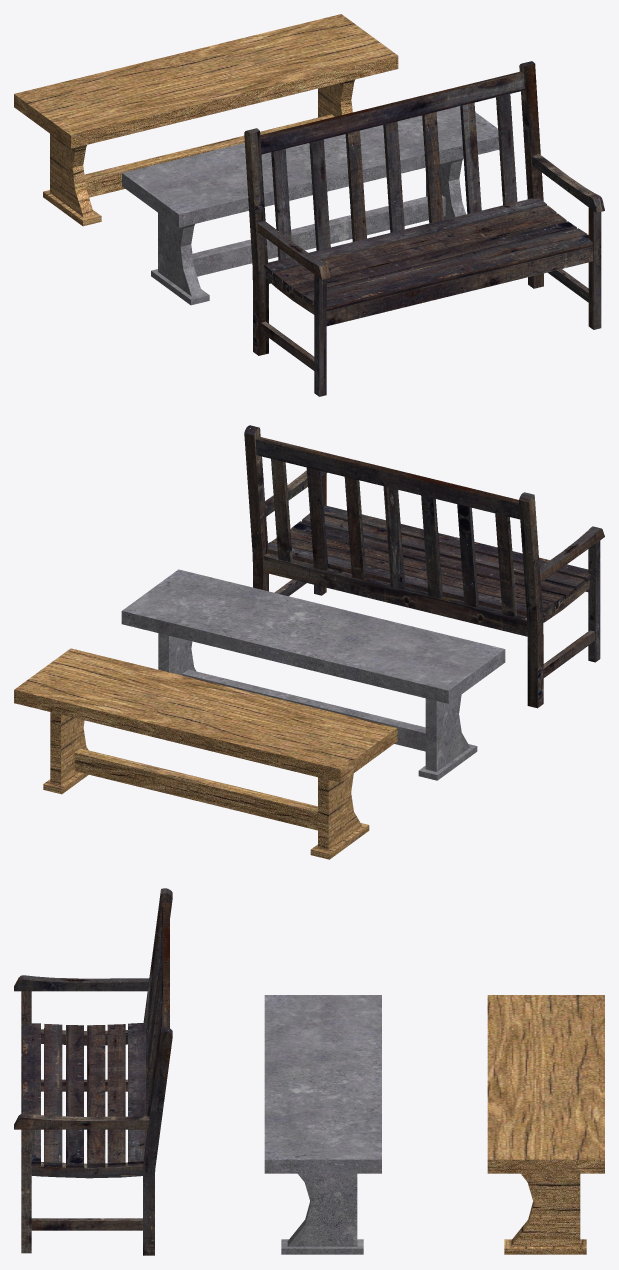
The model's file is medieval-benches.fbx.
The picture shows the model from 3 angles, top to bottom: view 1: azimuth 30°, elevation 25°; view 2: azimuth 150°, elevation 25°; view 3: azimuth 270°, elevation 25°; orthographic projection. The views are drawn at different scales.
Visible parts, largest first — view 1: BenchWoodOld, BenchWoodFinished, BenchStone; view 2: BenchWoodOld, BenchWoodFinished, BenchStone; view 3: BenchWoodOld, BenchWoodFinished, BenchStone.
Part boxes in pixels (<box>): BenchWoodOld: <box>244,61,604,396</box>; BenchWoodFinished: <box>14,14,398,226</box>; BenchStone: <box>122,106,499,305</box>; BenchWoodOld: <box>244,425,604,708</box>; BenchWoodFinished: <box>14,648,397,859</box>; BenchStone: <box>121,569,505,780</box>; BenchWoodOld: <box>14,888,172,1255</box>; BenchWoodFinished: <box>487,995,604,1254</box>; BenchStone: <box>264,995,381,1254</box>.
Bounding box in the file's own units: 175 × 111 × 265.
